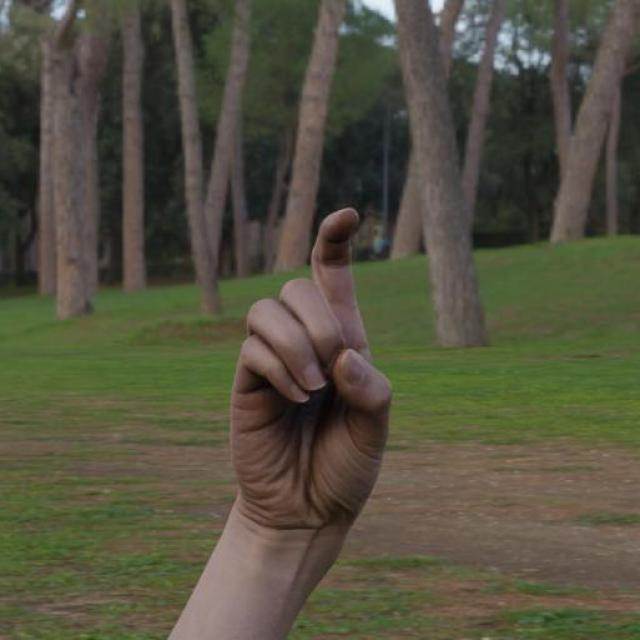X: (223, 205, 397, 534)
